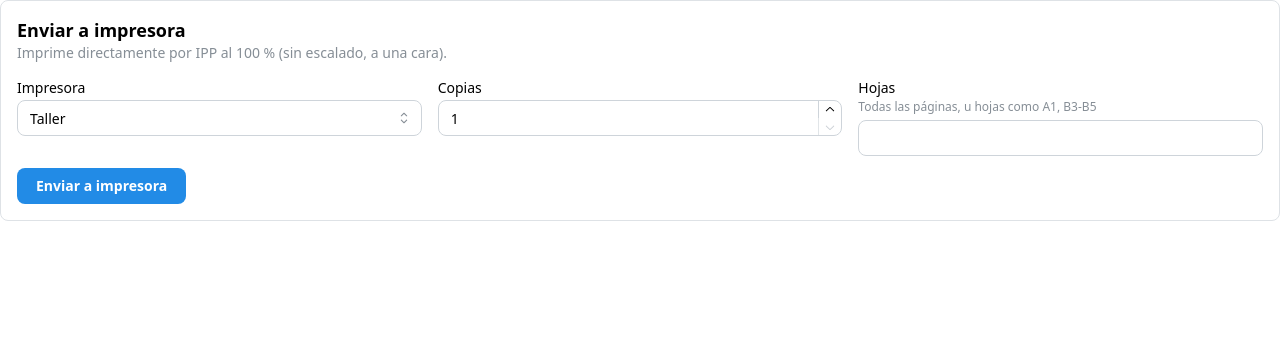
Test: PrintToPrinter › shows the API error when the request is refused
The image size is (1280, 337).
Click the button with test id "send-to-printer". click: (102, 186)
box: [17, 168, 186, 204]
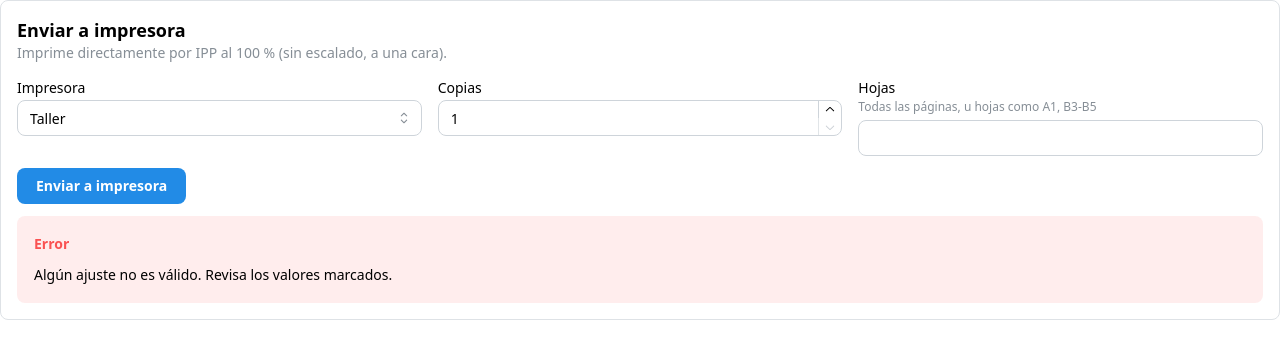
Expected: the message "Error Algún ajuste no es válido. Revisa los valores marcados." is shown, [17, 216, 1263, 303]
